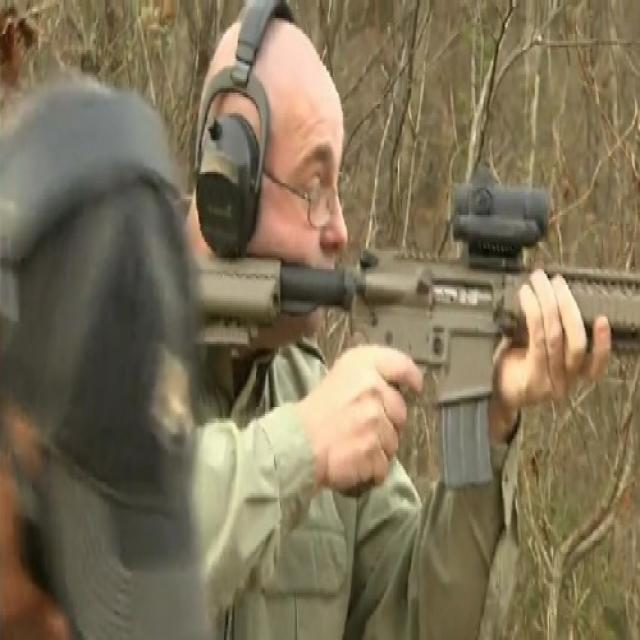weapon: (190, 193, 640, 500)
